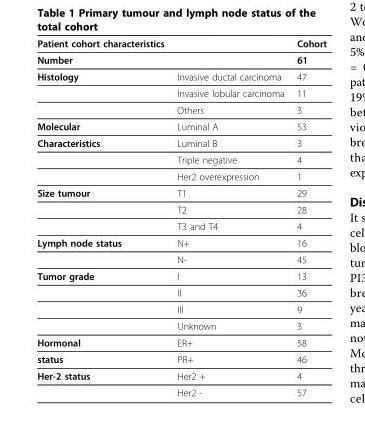table: (36, 37, 325, 397)
table column: (36, 37, 170, 397), (170, 37, 289, 397), (289, 37, 325, 397)
table column header: (36, 37, 325, 51)
table row: (36, 67, 325, 84), (36, 84, 325, 101), (36, 117, 325, 134), (36, 134, 325, 151), (36, 167, 325, 184), (36, 184, 325, 201), (36, 217, 325, 234), (36, 250, 325, 267), (36, 267, 325, 284), (36, 300, 325, 317), (36, 333, 325, 350), (36, 350, 325, 367), (36, 51, 325, 67), (36, 101, 325, 117), (36, 151, 325, 167), (36, 201, 325, 217), (36, 234, 325, 250), (36, 284, 325, 300), (36, 317, 325, 333), (36, 367, 325, 383), (36, 37, 325, 51), (36, 383, 325, 397)
table spanning cell: (36, 267, 170, 333), (36, 67, 170, 117), (36, 134, 170, 184), (36, 184, 170, 234), (36, 234, 170, 267), (36, 367, 170, 397)
